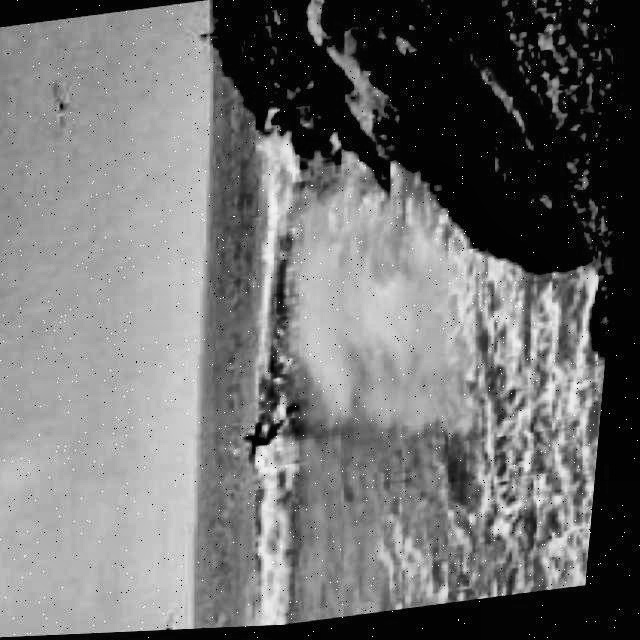Smoke: (258, 151, 505, 477)
